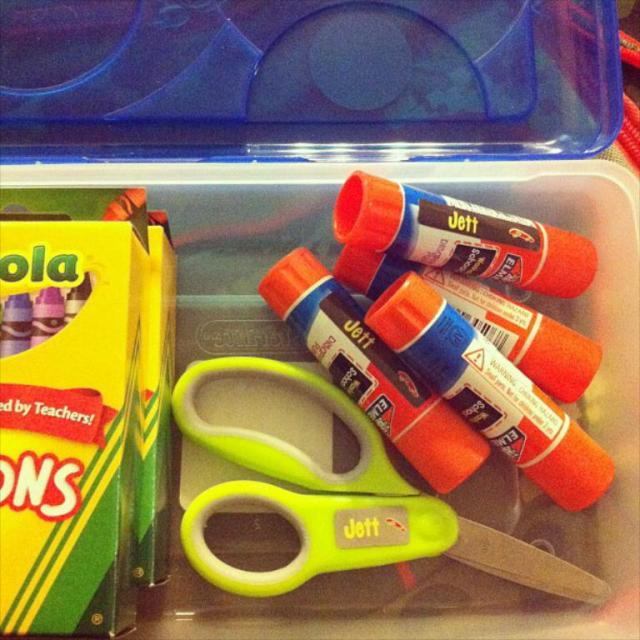scissors: (171, 355, 612, 607)
